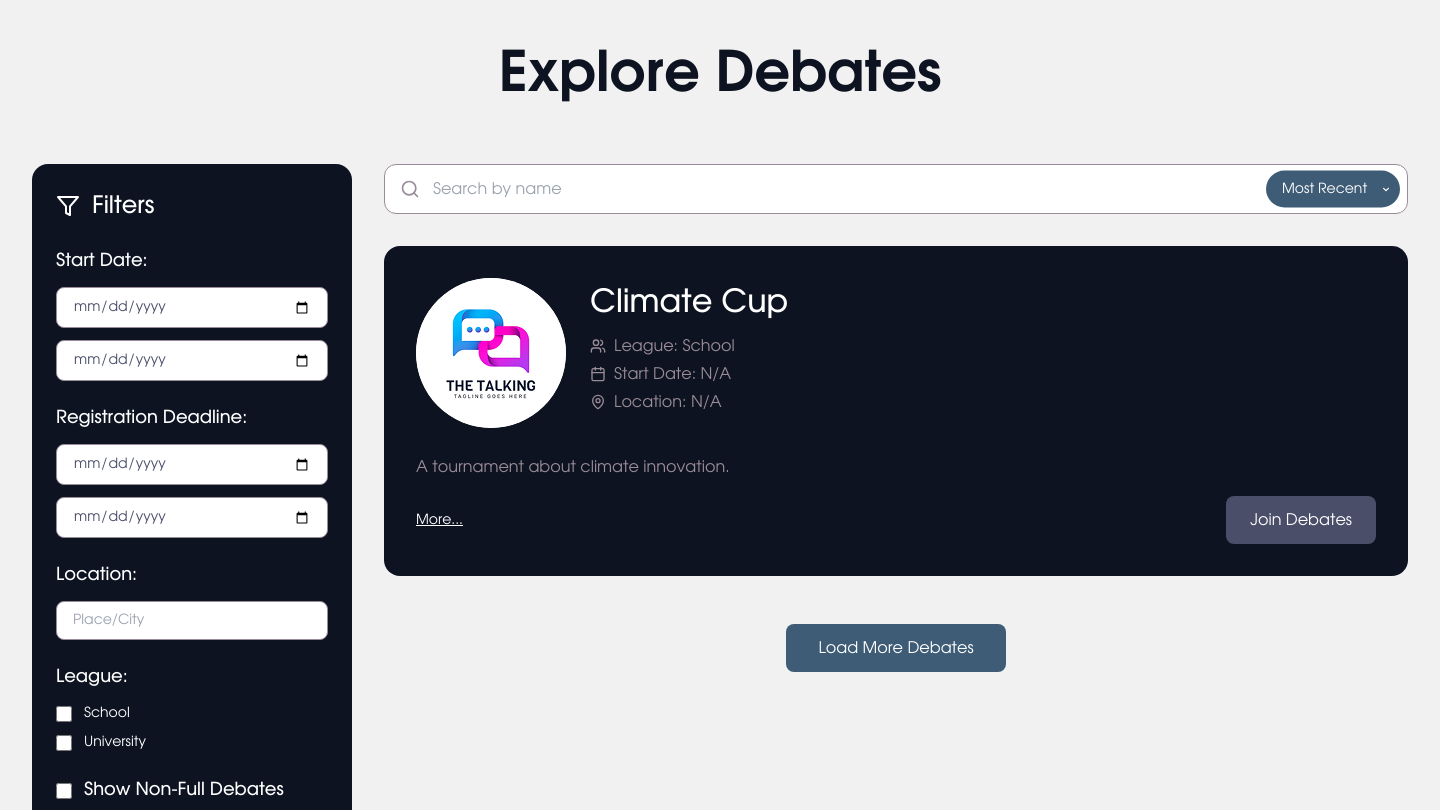
JoinDebatesPage tournament pagination › appends each next page once and removes overlapping tournament ids
This screenshot has width=1440, height=810.
Expected: the heading "Climate Cup" is shown, [590,286,788,318]
Click the button "Load More Debates" at (896,648), box [786,624,1006,672]
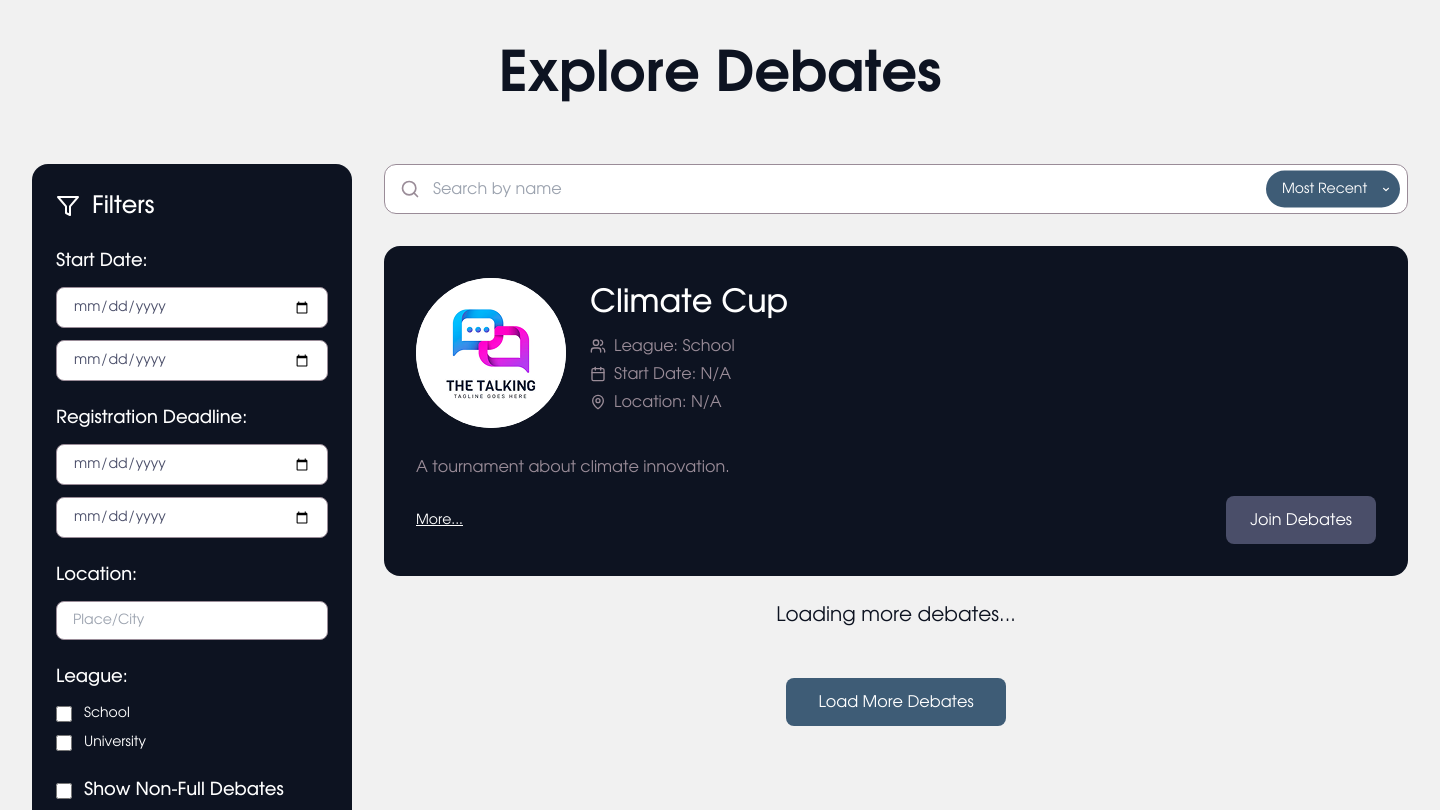
Click the button "Load More Debates" at (896,702), box [786,678,1006,726]
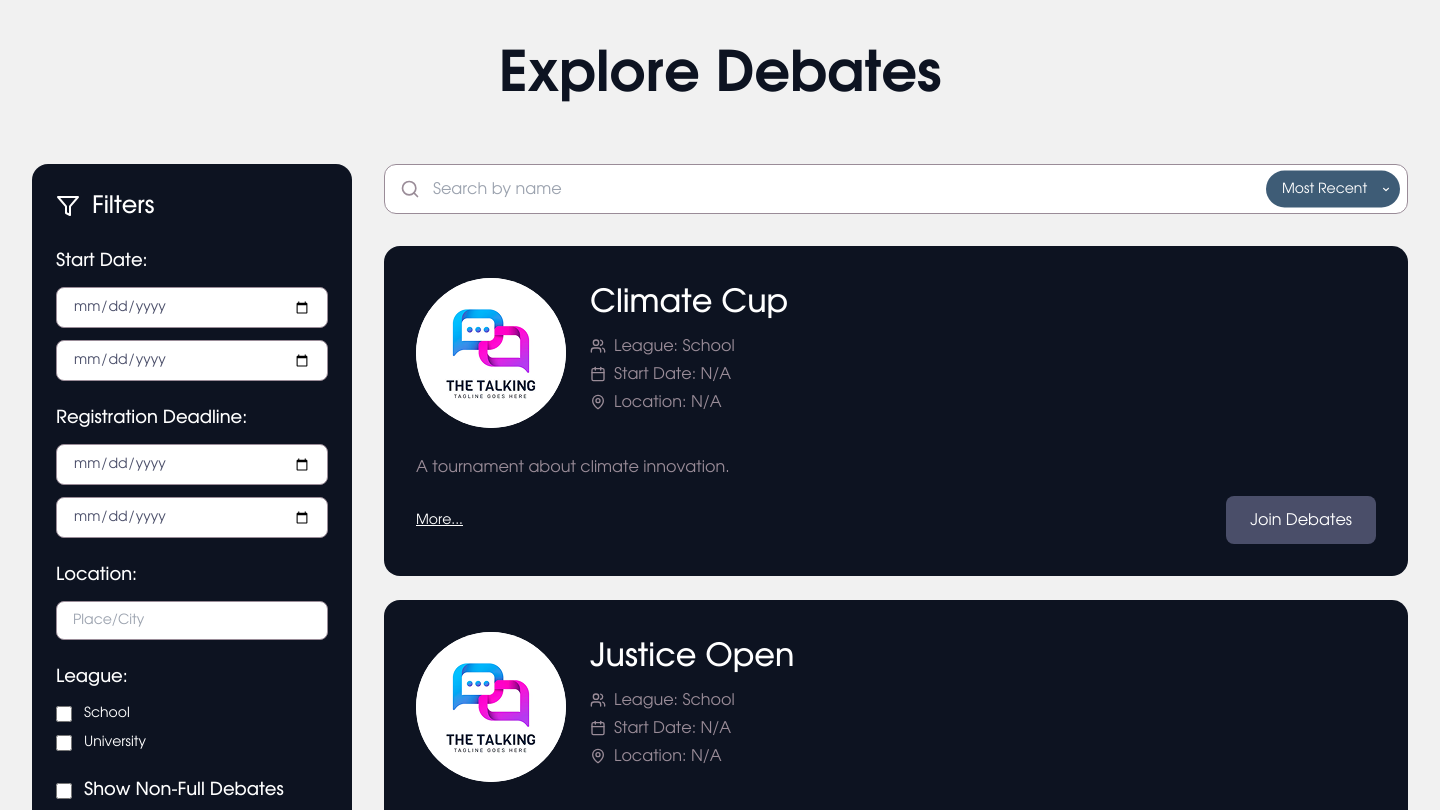
Expected: the number of headings "Climate Cup" is 1, [590,286,788,318]
Expected: the heading "Justice Open" is shown, [590,640,794,672]
Expected: the button "Load More Debates" is gone
